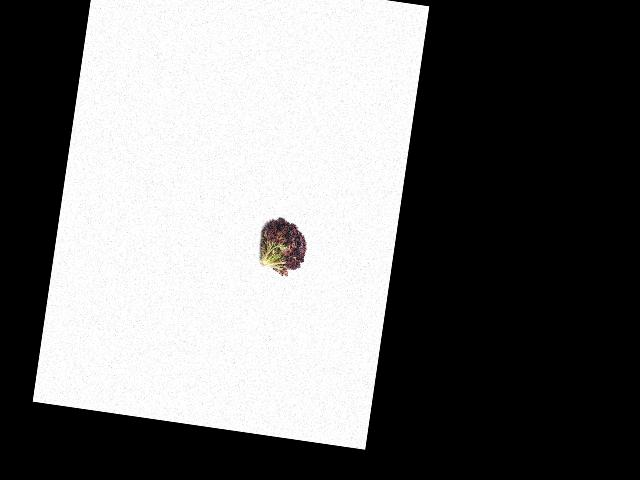lettuce: (253, 212, 312, 275)
